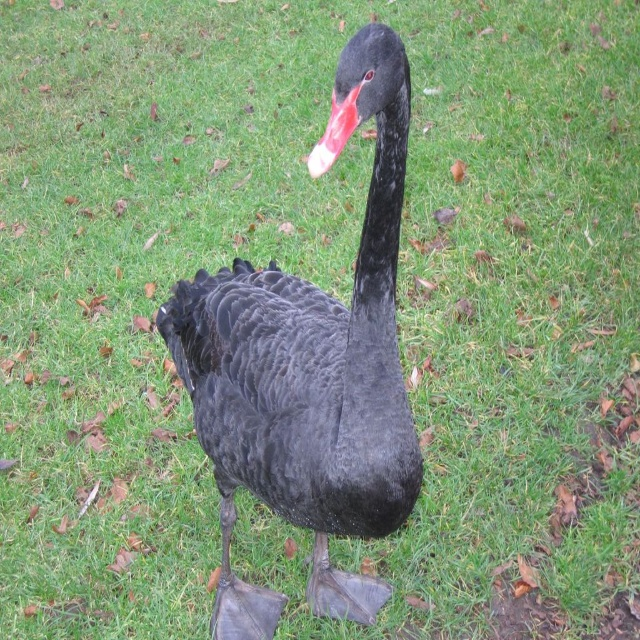Swan: (156, 21, 425, 639)
